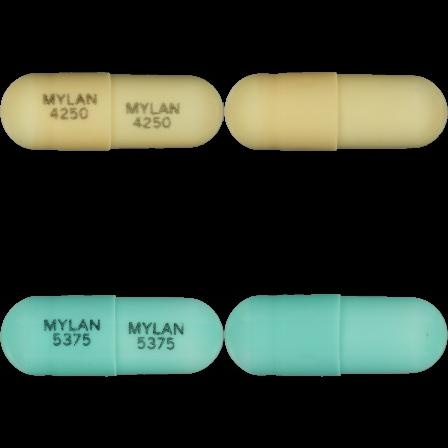67046-131: (0, 0, 224, 224)
